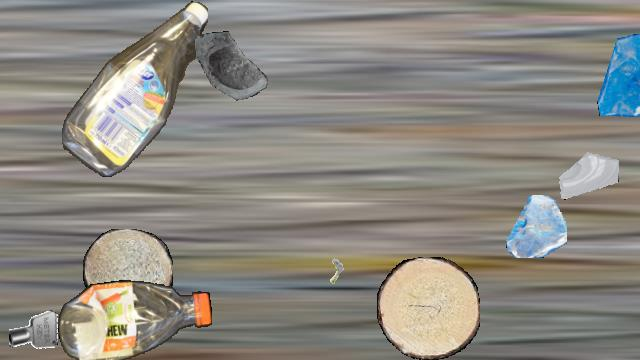glass: (195, 31, 277, 113), (594, 33, 640, 117), (504, 195, 566, 257), (558, 140, 618, 200)
metal: (9, 306, 59, 356), (314, 255, 354, 295)
plastic: (62, 1, 208, 177), (58, 279, 212, 359)
wood: (377, 257, 479, 359), (83, 229, 173, 313)
